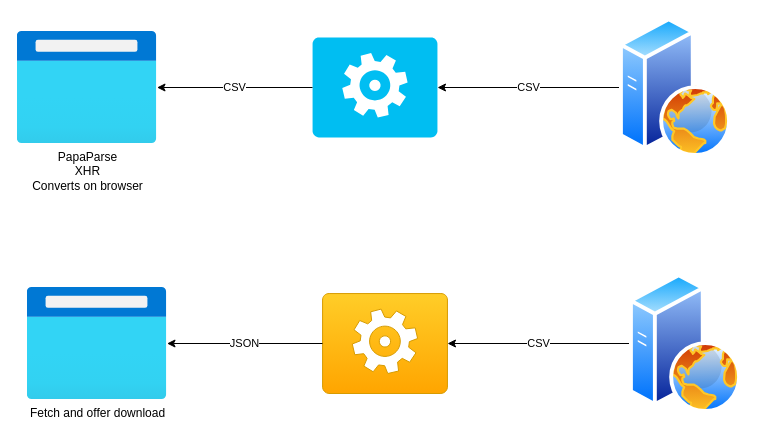
This 759x437 diagram has some shape labels left out. Here are the shapes that lost their labels. From the top down, the box of each, then its label:
(312, 37, 437, 137): Worker enables CORS and range headers
(322, 292, 448, 394): Worker Performs the Conversion
